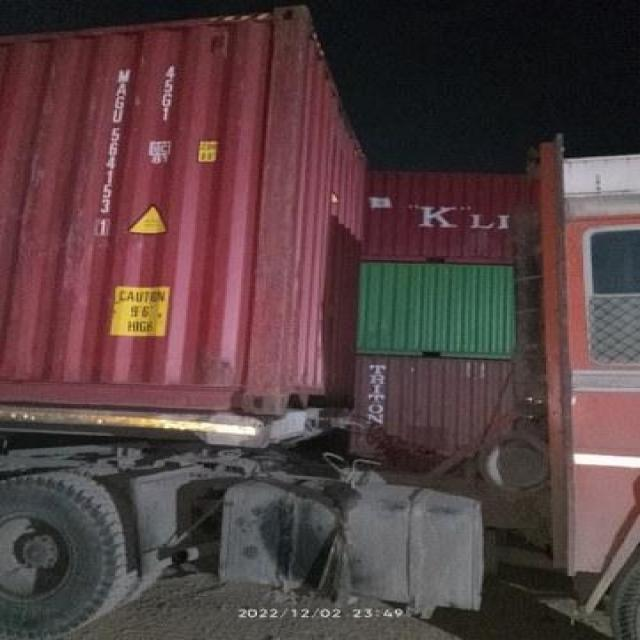ISO: (159, 59, 178, 127)
container_number: (88, 55, 126, 239)
